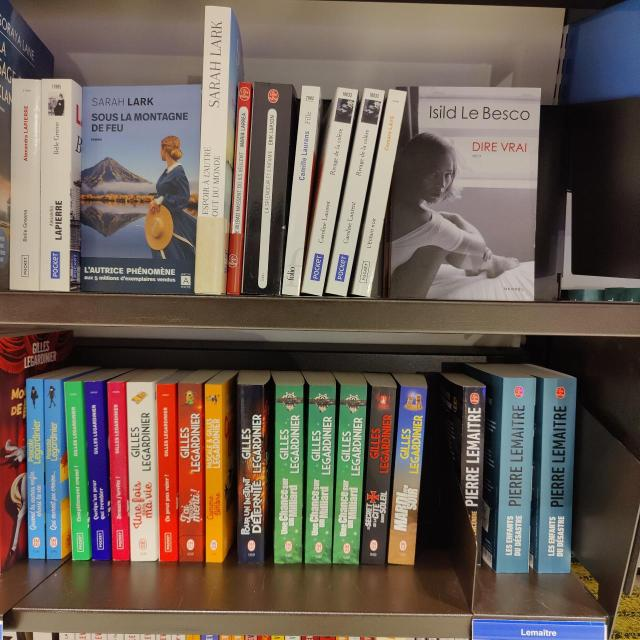book: (325, 88, 385, 296), (301, 87, 359, 295), (351, 90, 407, 297), (241, 81, 292, 295), (194, 5, 231, 294), (282, 85, 320, 295), (496, 378, 536, 572), (538, 378, 577, 572), (388, 386, 427, 565), (10, 78, 41, 291), (39, 79, 70, 291), (333, 385, 368, 565), (361, 387, 396, 565), (305, 385, 335, 564), (126, 382, 156, 561), (274, 385, 303, 563), (227, 82, 251, 294), (84, 381, 111, 560), (237, 385, 264, 563), (460, 387, 485, 566), (64, 382, 89, 560), (178, 384, 202, 561), (108, 382, 129, 560), (156, 384, 177, 561), (26, 380, 45, 559), (44, 379, 62, 559), (205, 384, 222, 563)
